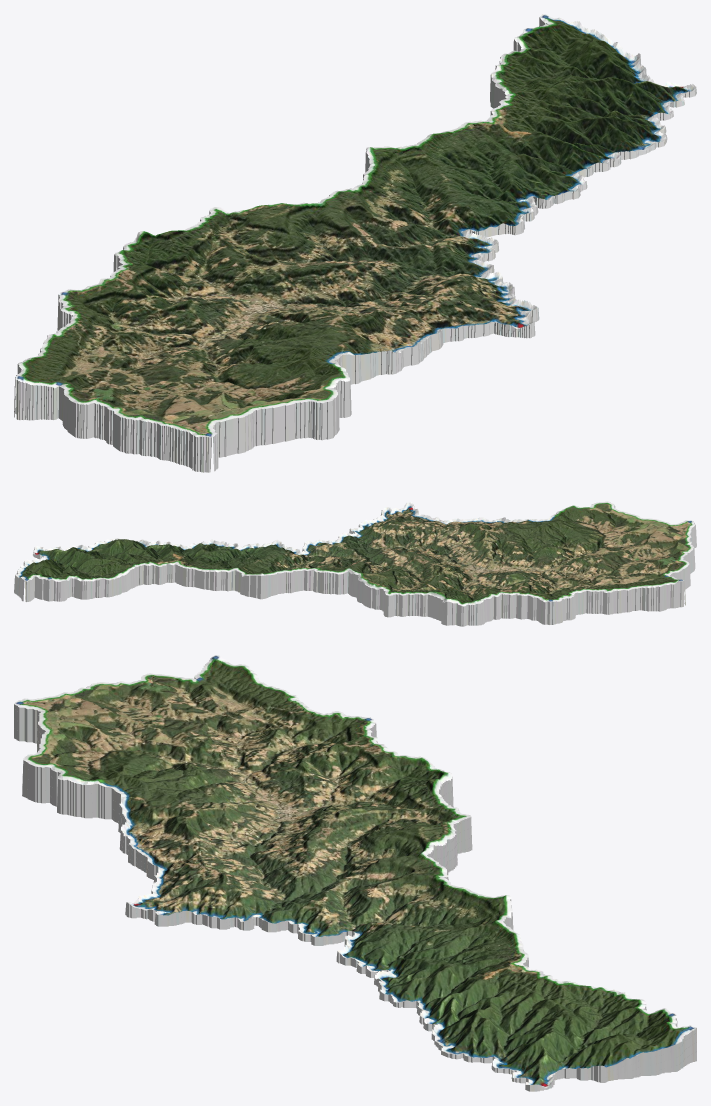
3 views of the same model, one above another, from view 1: azimuth 30°, elevation 25°; view 2: azimuth 150°, elevation 25°; view 3: azimuth 270°, elevation 25° (orthographic). The views are drawn at different scales.
Bounding box in the file's own units: 0.9996 × 0.0452 × 0.724.
1 material, 1 textured.
